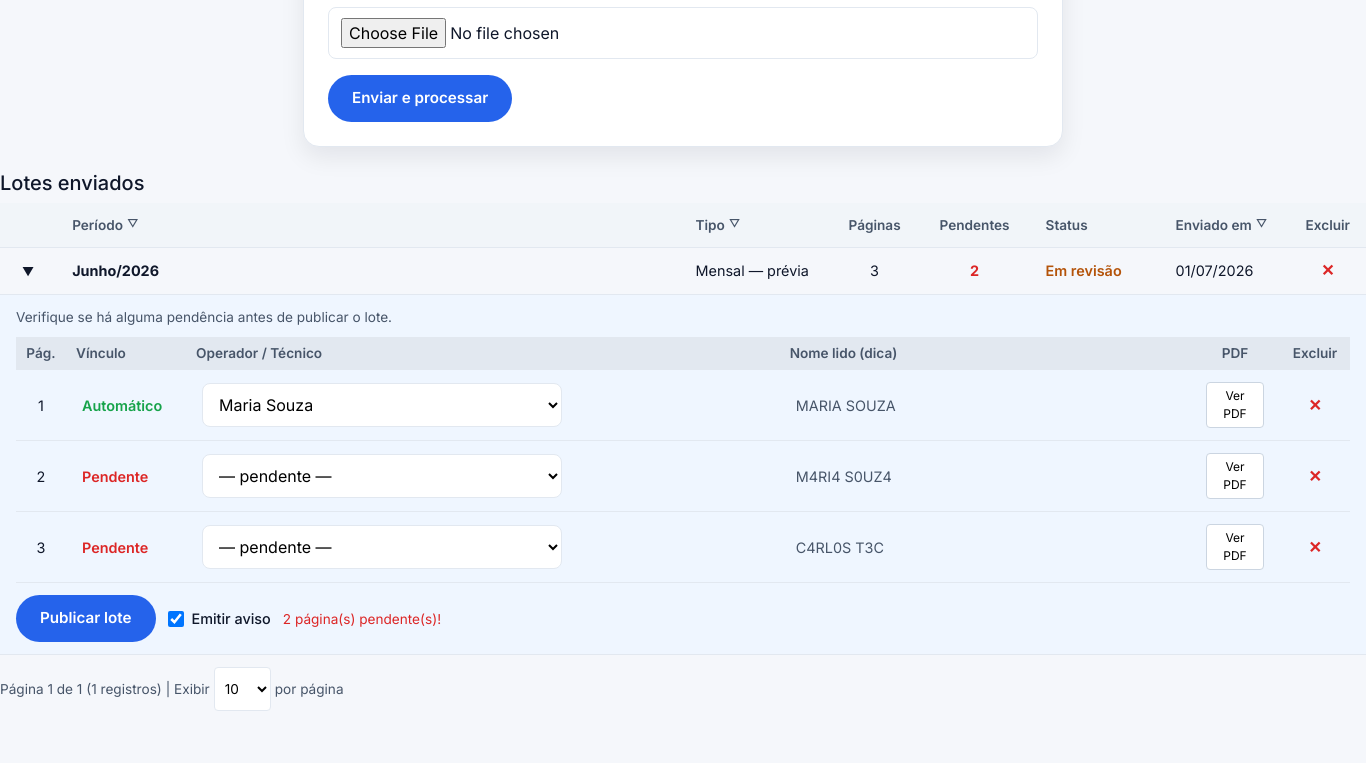
Test: AdminPontoComponent › render da exclusão (X e modal dinâmico) › o modal de uma FOLHA nomeia a folha e mostra os números DELA (o texto não é fixo)
(page scrolled)
Click the button with class "btn-x-pagina" in the row of "Automático": (1315, 405) [1302,395,1328,415]
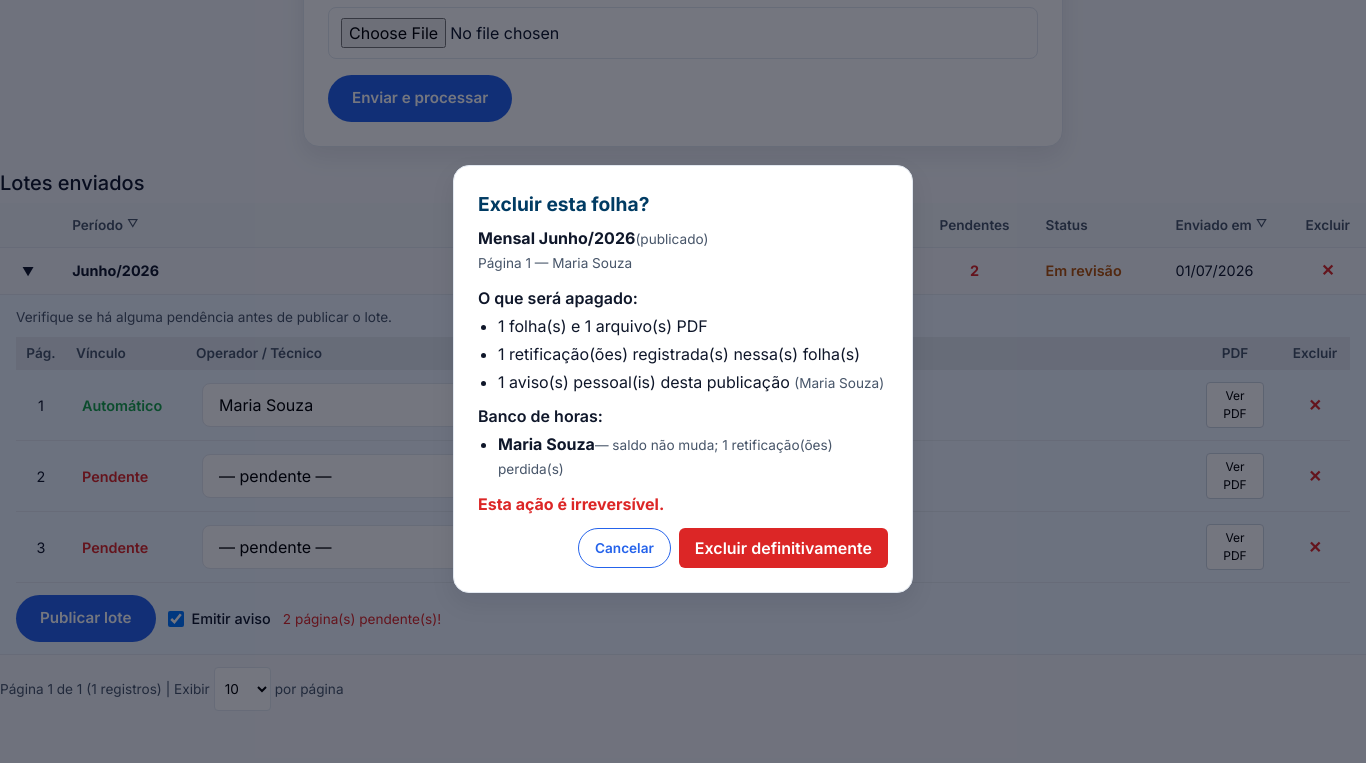
Check: the element with class "modal-card" shows "Excluir esta folha?", box [478,192,649,216]
Check: the element with class "modal-card" shows "Página 1 — Maria Souza", box [478,255,632,271]
Check: the element with class "modal-card" shows "1 folha(s) e 1 arquivo(s) PDF", box [498,316,708,336]
